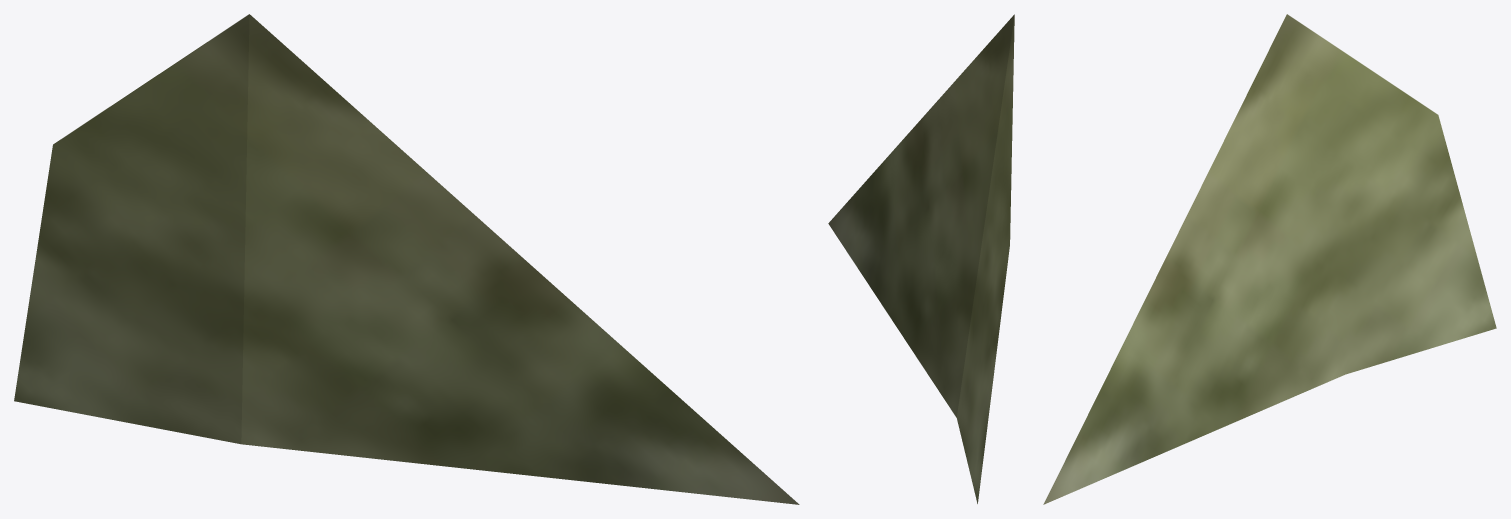
The picture shows the model from 3 angles, left to right: view 1: azimuth 30°, elevation 25°; view 2: azimuth 150°, elevation 25°; view 3: azimuth 270°, elevation 25°; orthographic projection. The views are drawn at different scales.
Size of the model in its own units: 0.7603 by 0.7015 by 0.8254.
1 material, 1 textured.
